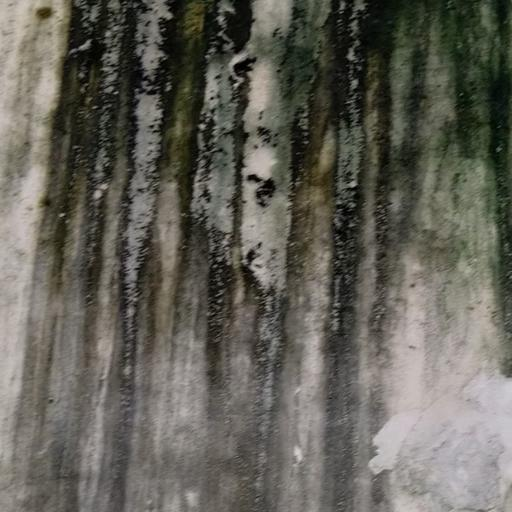algae: (38, 4, 512, 512)
